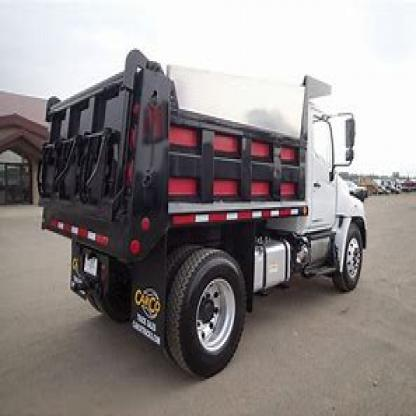dump_truck: (42, 48, 389, 379)
